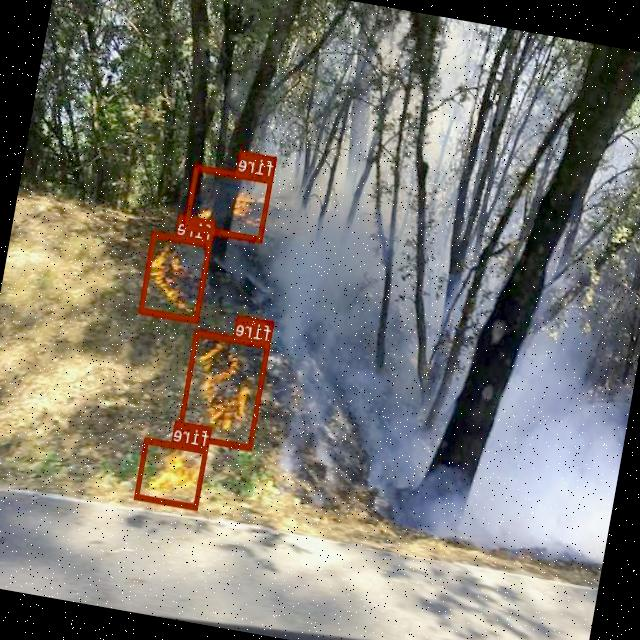fire: (177, 328, 271, 449), (184, 164, 274, 242), (138, 230, 212, 322), (136, 436, 210, 508)
